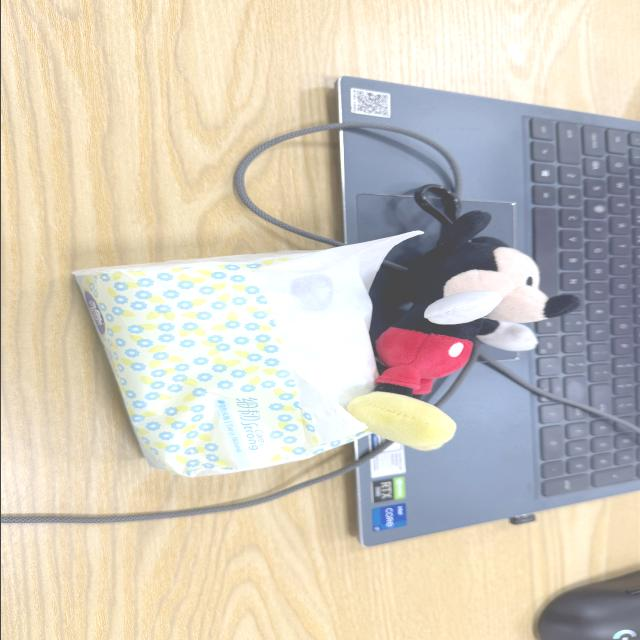mickey: (347, 211, 578, 450)
tissue: (74, 232, 418, 475)
